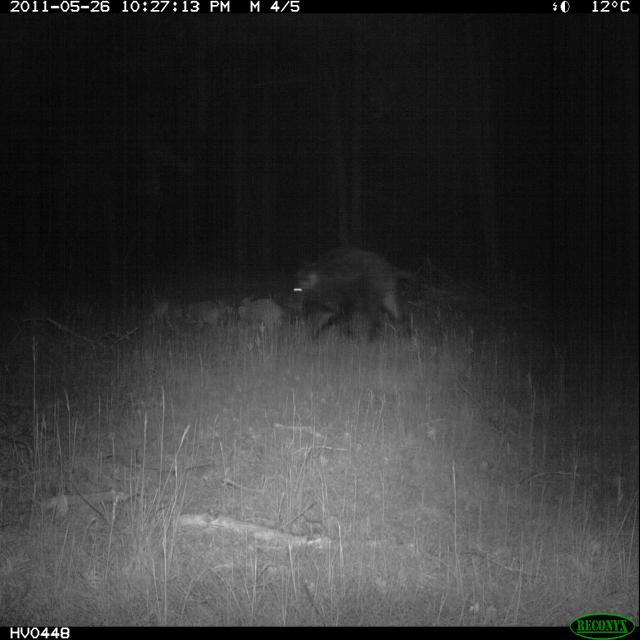boar: (271, 207, 421, 361)
